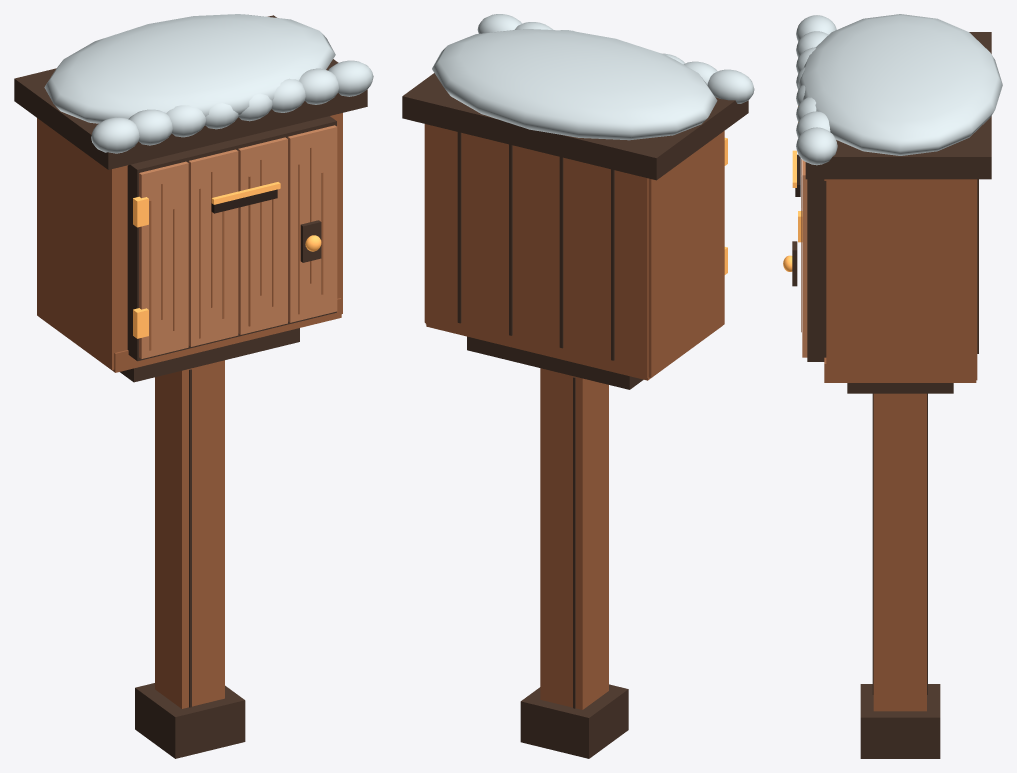
File: 小屋木信箱.glb
3 views of the same model, side by side, from view 1: azimuth 30°, elevation 25°; view 2: azimuth 150°, elevation 25°; view 3: azimuth 270°, elevation 25° (orthographic). The views are drawn at different scales.
Visible parts, largest first — view 1: DoorPlank (×4), Post, SnowCap, LeftWall, SnowFringe (×8), CapEdge, PostFoot, DoorBacking, PostCrossbar, Bottom, RightWall, PostCarvedGroove (+2 smaller); view 2: BackPanel, SnowCap, Post, LeftWall, CapEdge, PostFoot, SidePlankSeam (×4), PostCrossbar, SnowFringe (×2), PostCarvedGroove, Bottom; view 3: RightWall, SnowCap, Post, CapEdge, PostFoot, DoorBacking, SnowFringe (×4), PostCrossbar, DoorPlank, BackPanel, PostCarvedGroove, Bottom.
Part boxes in pixels (x1=…): DoorPlank (×4): x1=139, y1=125, x2=337, y2=358; Post: x1=155, y1=360, x2=224, y2=708; SnowCap: x1=44, y1=14, x2=335, y2=123; LeftWall: x1=37, y1=118, x2=127, y2=369; SnowFringe (×8): x1=91, y1=60, x2=373, y2=153; CapEdge: x1=14, y1=15, x2=367, y2=169; PostFoot: x1=135, y1=683, x2=245, y2=758; DoorBacking: x1=127, y1=116, x2=336, y2=361; PostCrossbar: x1=120, y1=328, x2=299, y2=382; Bottom: x1=41, y1=298, x2=341, y2=372; RightWall: x1=330, y1=113, x2=342, y2=313; PostCarvedGroove: x1=189, y1=369, x2=191, y2=707; BackPanel: x1=425, y1=124, x2=648, y2=378; SnowCap: x1=432, y1=29, x2=717, y2=140; Post: x1=540, y1=368, x2=608, y2=709; LeftWall: x1=648, y1=131, x2=724, y2=377; CapEdge: x1=402, y1=73, x2=748, y2=180; PostFoot: x1=520, y1=684, x2=628, y2=758; SidePlankSeam (×4): x1=457, y1=132, x2=614, y2=360; PostCrossbar: x1=467, y1=336, x2=643, y2=389; SnowFringe (×2): x1=477, y1=14, x2=754, y2=103; PostCarvedGroove: x1=573, y1=377, x2=575, y2=708; Bottom: x1=426, y1=324, x2=720, y2=380; RightWall: x1=826, y1=179, x2=974, y2=381; SnowCap: x1=798, y1=14, x2=1002, y2=155; Post: x1=873, y1=393, x2=926, y2=711; CapEdge: x1=805, y1=32, x2=991, y2=179; PostFoot: x1=860, y1=684, x2=940, y2=758; DoorBacking: x1=807, y1=179, x2=826, y2=361; SnowFringe (×4): x1=796, y1=15, x2=837, y2=165; PostCrossbar: x1=847, y1=383, x2=953, y2=393; DoorPlank: x1=802, y1=160, x2=807, y2=357; BackPanel: x1=974, y1=179, x2=977, y2=380; PostCarvedGroove: x1=872, y1=393, x2=873, y2=694; Bottom: x1=824, y1=357, x2=976, y2=382.
Size of the model in its own units: 0.836 by 1.99 by 0.579.
